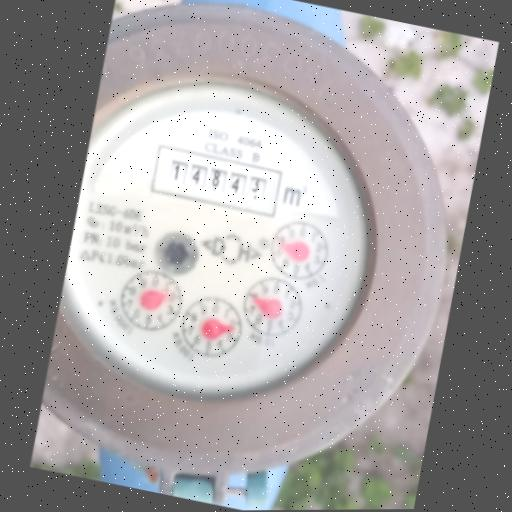1: (167, 161, 187, 187)
3: (248, 177, 266, 200)
4: (188, 164, 208, 189), (229, 173, 246, 196)
8: (208, 168, 228, 193)
border_water_meter_number: (148, 143, 284, 218)
